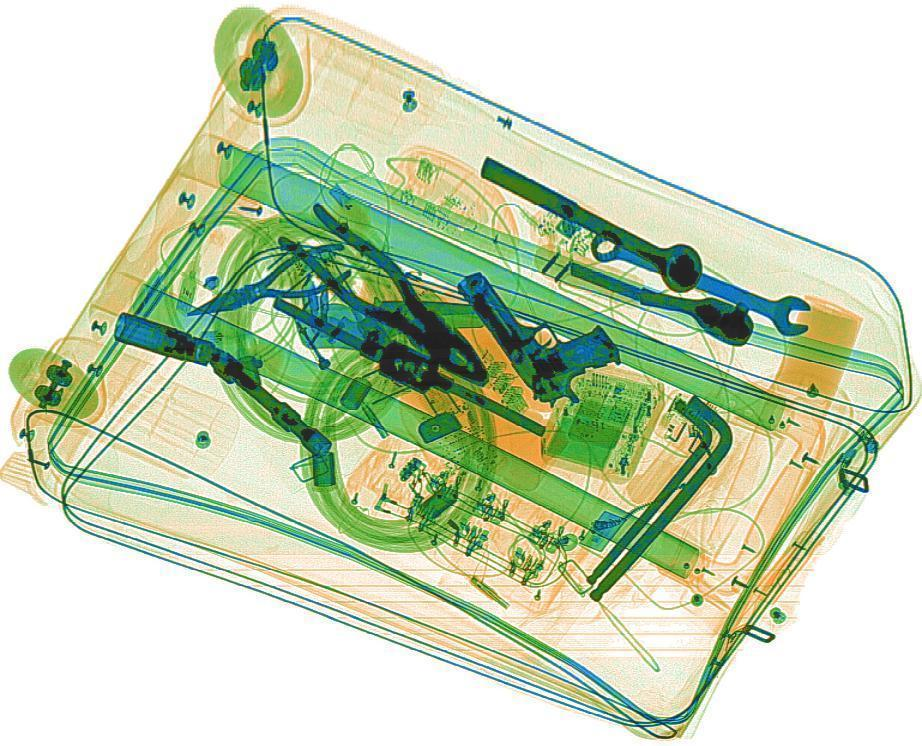Gun: (447, 244, 636, 412)
Pliers: (264, 194, 513, 402), (177, 237, 365, 334)
Wrench: (577, 226, 825, 340)
